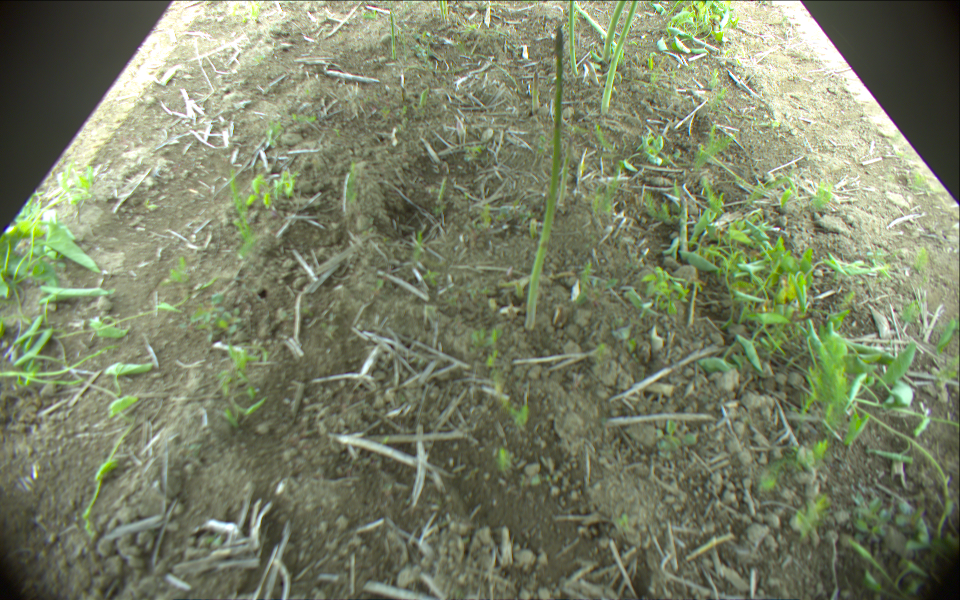aspa: (525, 25, 565, 332), (600, 1, 637, 116), (575, 2, 624, 59), (603, 1, 623, 63), (561, 135, 576, 210), (567, 1, 580, 74), (676, 195, 688, 251), (529, 71, 539, 119), (390, 9, 398, 62), (419, 84, 429, 107), (442, 1, 450, 23), (438, 177, 446, 198), (438, 1, 445, 20)
